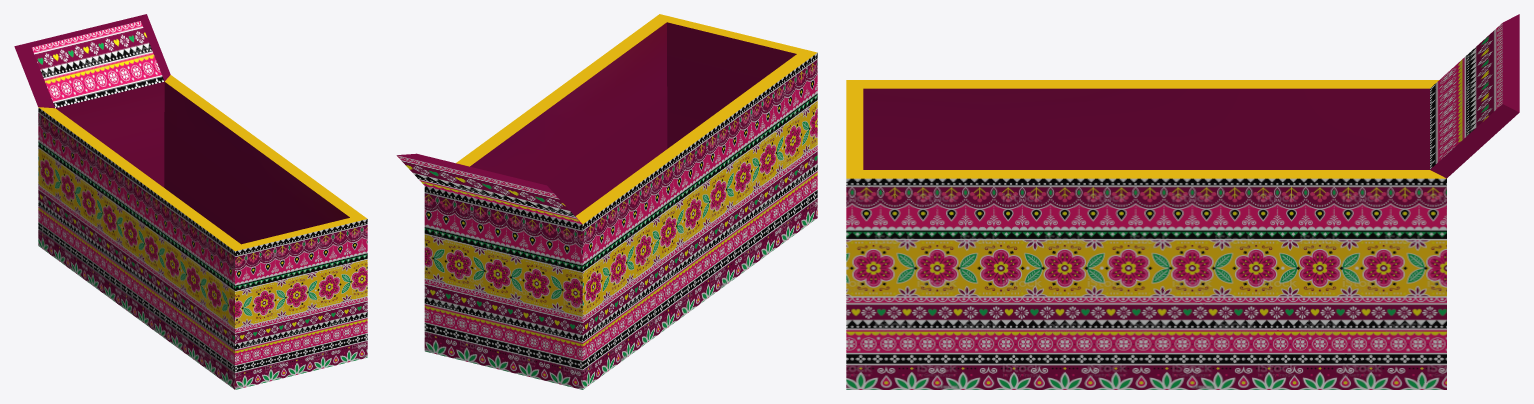
Rendered from Truck Container.fbx.
3 views of the same model, side by side, from view 1: azimuth 30°, elevation 25°; view 2: azimuth 150°, elevation 25°; view 3: azimuth 270°, elevation 25° (orthographic). The views are drawn at different scales.
Parts seen in each view (by area): view 1: Truck Cantainer; view 2: Truck Cantainer; view 3: Truck Cantainer.
Part boxes in pixels (box(x1,y1,x2,y2)): Truck Cantainer: box(14, 14, 367, 389); Truck Cantainer: box(396, 14, 817, 389); Truck Cantainer: box(846, 14, 1519, 389).
Bounding box in the file's own units: 3.21 × 4.21 × 9.25.
